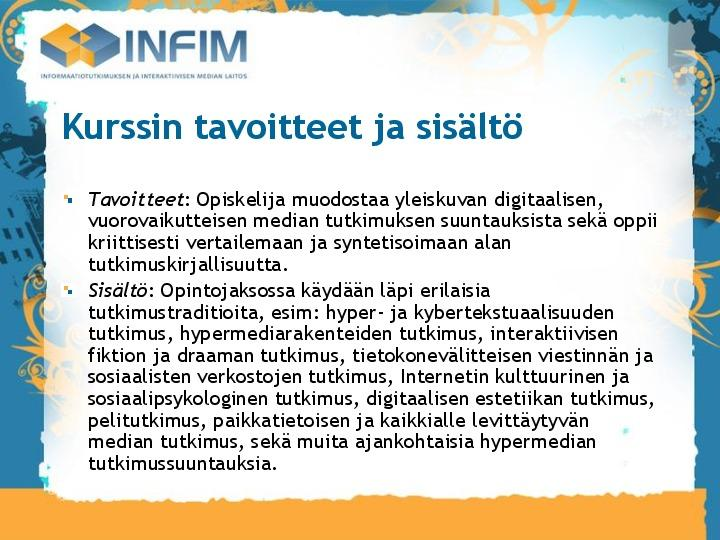paragraph: (58, 175, 679, 483)
title: (58, 99, 537, 157)
